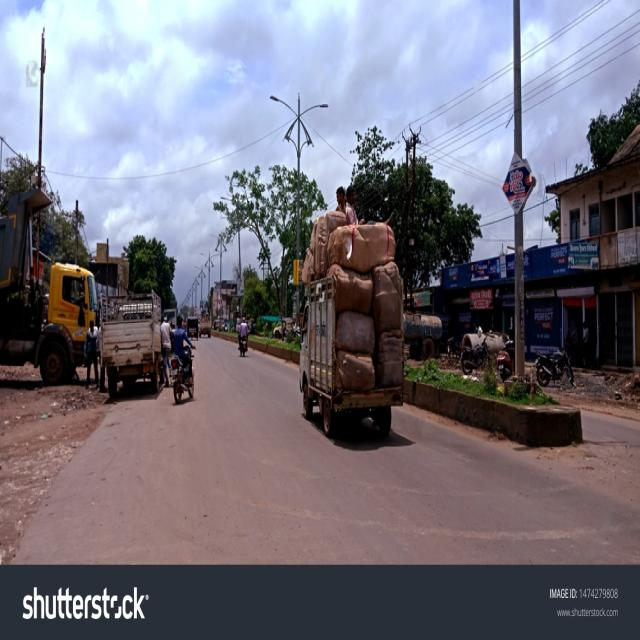motorcycle: (171, 315, 194, 404)
truck: (300, 212, 404, 436), (0, 188, 98, 384), (101, 291, 162, 397)
